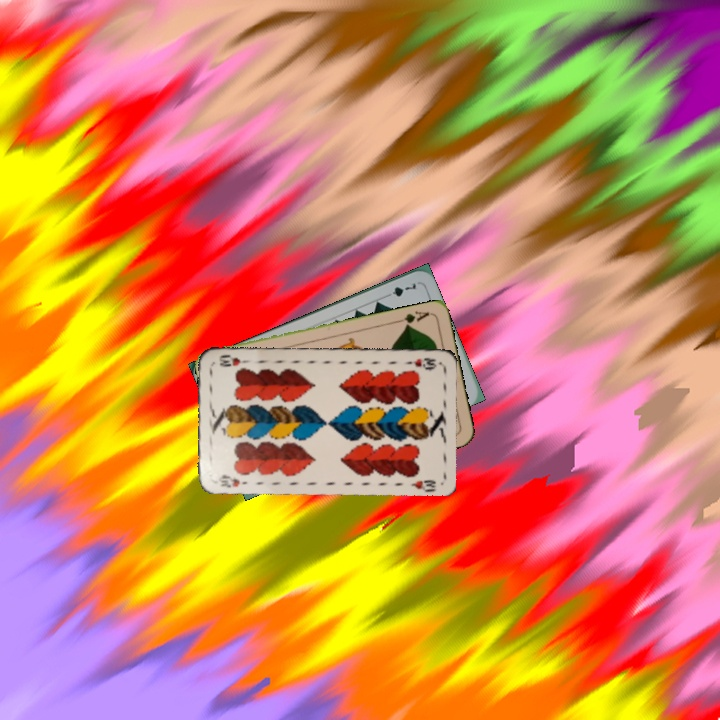G7: (380, 279, 419, 301)
GA: (393, 307, 432, 330)
H10: (215, 470, 249, 490), (401, 354, 439, 371)
